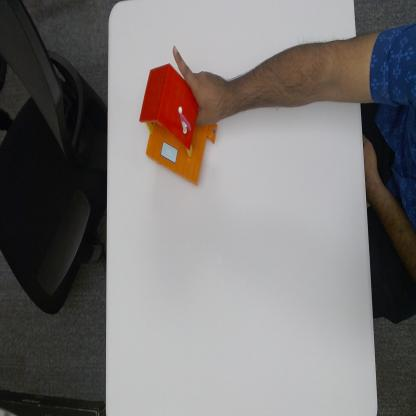Arm: (230, 41, 362, 116)
Hand: (172, 43, 231, 121)
House: (142, 65, 216, 184)
